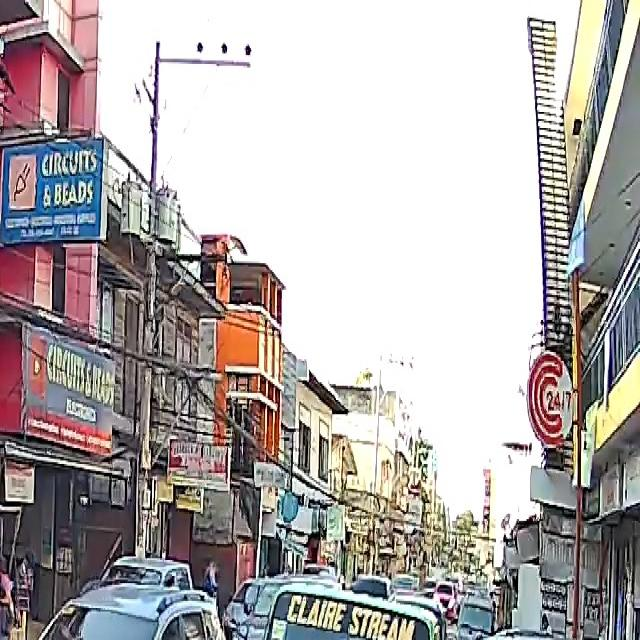car: (0, 579, 229, 640), (227, 570, 345, 640), (106, 557, 195, 597), (452, 633, 640, 640)
